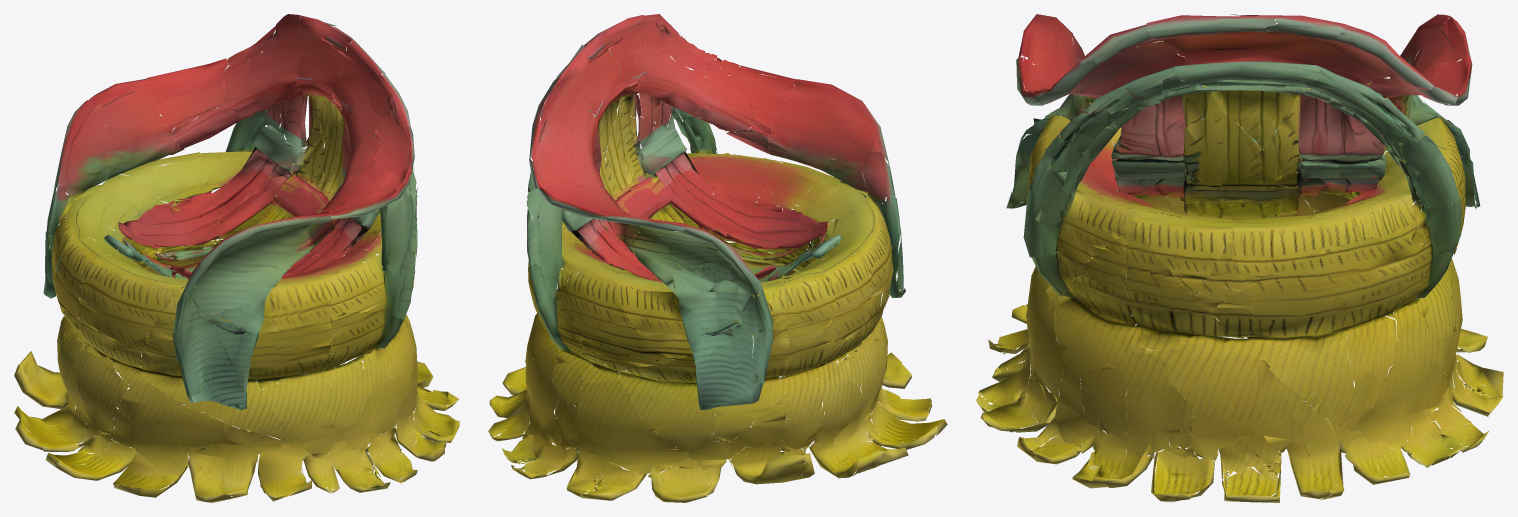
Rendered from sillagoma.glb.
3 renders of one model, left to right at view 1: azimuth 30°, elevation 25°; view 2: azimuth 150°, elevation 25°; view 3: azimuth 270°, elevation 25°, orthographic. The views are drawn at different scales.
Parts seen in each view (by area): view 1: tripo_node_f82929dc-f2f3-43a8-9a89-5c5c2b6bd574; view 2: tripo_node_f82929dc-f2f3-43a8-9a89-5c5c2b6bd574; view 3: tripo_node_f82929dc-f2f3-43a8-9a89-5c5c2b6bd574.
Part boxes in pixels (bbox=[...]): tripo_node_f82929dc-f2f3-43a8-9a89-5c5c2b6bd574: bbox=[14, 14, 459, 502]; tripo_node_f82929dc-f2f3-43a8-9a89-5c5c2b6bd574: bbox=[488, 14, 947, 502]; tripo_node_f82929dc-f2f3-43a8-9a89-5c5c2b6bd574: bbox=[976, 14, 1503, 502].
Size of the model in its own units: 1 by 0.8833 by 0.9422.
1 material, 1 textured.
